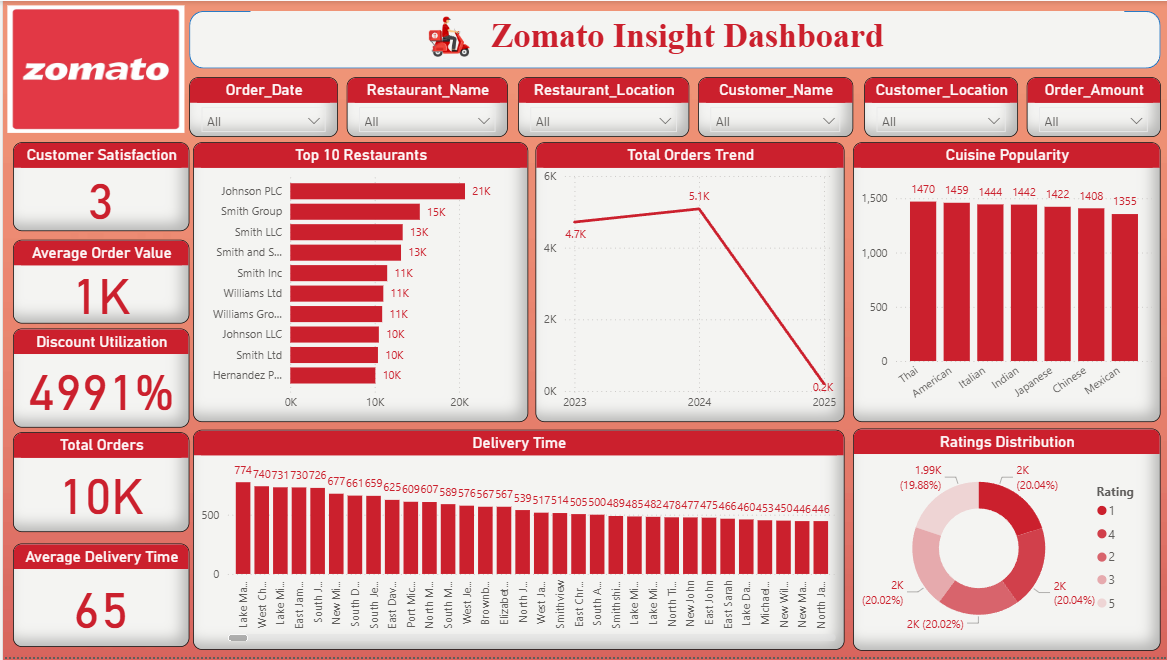

What the dashboard file says about the page in this screenshot:
{"tool":"powerbi","page":{"name":"Dashboard","canvas":[1280,720],"ordinal":0},"visuals":[{"type":"card","title":"Total Orders","fields":{"Values":["CountNonNull(Sheet1.Order_ID)"]},"box":[11,473.4,193.5,109.8],"z":0},{"type":"card","title":"Average Delivery Time","fields":{"Values":["Avg(Sheet1.Delivery_Time_Minutes)"]},"box":[11,595.5,193.5,113.9],"z":1000},{"type":"card","title":"Average Order Value","fields":{"Values":["Avg(Sheet1.Order_Amount)"]},"box":[11,262.1,193.5,91.9],"z":2000},{"type":"card","title":"Customer Satisfaction ","fields":{"Values":["Avg(Sheet1.Rating)"]},"box":[11,155.1,193.5,97.4],"z":3000},{"type":"card","title":"Discount Utilization ","fields":{"Values":["Sheet1.Discount Utilization (%)"]},"box":[11,359.5,193.5,108.4],"z":4000},{"type":"lineChart","title":"Total Orders Trend ","fields":{"Category":["Sheet1.Order_Date.Variation.Date Hierarchy.Year"],"Y":["CountNonNull(Sheet1.Order_ID)"]},"box":[584.6,155.1,338.9,307.4],"z":5000},{"type":"columnChart","title":"Delivery Time","fields":{"Category":["Sheet1.Customer_Location"],"Y":["Sum(Sheet1.Delivery_Time_Minutes)"]},"box":[208.6,470.7,714.9,241.5],"z":6000},{"type":"barChart","title":"Top 10 Restaurants ","fields":{"Category":["Sheet1.Restaurant_Name"],"Y":["Sum(Sheet1.Order_Amount)"]},"box":[208.6,155.1,367.8,307.4],"z":7000},{"type":"donutChart","title":"Ratings Distribution ","fields":{"Category":["Sheet1.Rating"],"Y":["CountNonNull(Sheet1.Order_ID)"]},"box":[933.1,469.3,337.6,244.3],"z":8000},{"type":"columnChart","title":"Cuisine Popularity ","fields":{"Category":["Sheet1.Cuisine"],"Y":["CountNonNull(Sheet1.Order_ID)"]},"box":[933.1,155.1,337.6,307.4],"z":9000},{"type":"slicer","title":"Restaurant_Name","fields":{"Values":["Sheet1.Restaurant_Name"]},"box":[377.4,83.7,177,65.9],"z":10000},{"type":"slicer","title":"Restaurant_Location","fields":{"Values":["Sheet1.Restaurant_Location"]},"box":[565.4,83.7,188,65.9],"z":11000},{"type":"slicer","title":"Customer_Name","fields":{"Values":["Sheet1.Customer_Name"]},"box":[763,83.7,170.2,65.9],"z":12000},{"type":"slicer","title":"Customer_Location","fields":{"Values":["Sheet1.Customer_Location"]},"box":[945.5,83.7,168.8,65.9],"z":13000},{"type":"slicer","title":"Order_Amount","fields":{"Values":["Sheet1.Order_Amount"]},"box":[1123.8,83.7,146.8,65.9],"z":14000},{"type":"slicer","title":"Order_Date","fields":{"Values":["Sheet1.Order_Date"]},"box":[204.5,83.7,163.3,65.9],"z":15000},{"type":"shape","box":[204.5,11,1066.2,63.1],"z":16000},{"type":"textbox","box":[271.7,11,959.2,53.5],"z":17000},{"type":"image","box":[0,0,204.5,149.6],"z":18000},{"type":"image","box":[340.3,12.3,299.1,53.5],"z":18001}]}

Visuals, with their boxes in screenshot pixels (x1, y1, x2, y2), scaled from the page's 1280x720 canvas onto the 1167x660 screenshot:
"Total Orders" card: x1=10 y1=434 x2=186 y2=535
"Average Delivery Time" card: x1=10 y1=546 x2=186 y2=650
"Average Order Value" card: x1=10 y1=240 x2=186 y2=324
"Customer Satisfaction " card: x1=10 y1=142 x2=186 y2=231
"Discount Utilization " card: x1=10 y1=330 x2=186 y2=429
"Total Orders Trend " lineChart: x1=533 y1=142 x2=842 y2=424
"Delivery Time" columnChart: x1=190 y1=431 x2=842 y2=653
"Top 10 Restaurants " barChart: x1=190 y1=142 x2=526 y2=424
"Ratings Distribution " donutChart: x1=851 y1=430 x2=1159 y2=654
"Cuisine Popularity " columnChart: x1=851 y1=142 x2=1159 y2=424
"Restaurant_Name" slicer: x1=344 y1=77 x2=505 y2=137
"Restaurant_Location" slicer: x1=515 y1=77 x2=687 y2=137
"Customer_Name" slicer: x1=696 y1=77 x2=851 y2=137
"Customer_Location" slicer: x1=862 y1=77 x2=1016 y2=137
"Order_Amount" slicer: x1=1025 y1=77 x2=1158 y2=137
"Order_Date" slicer: x1=186 y1=77 x2=335 y2=137
shape: x1=186 y1=10 x2=1159 y2=68
textbox: x1=248 y1=10 x2=1122 y2=59
image: x1=0 y1=0 x2=186 y2=137
image: x1=310 y1=11 x2=583 y2=60
